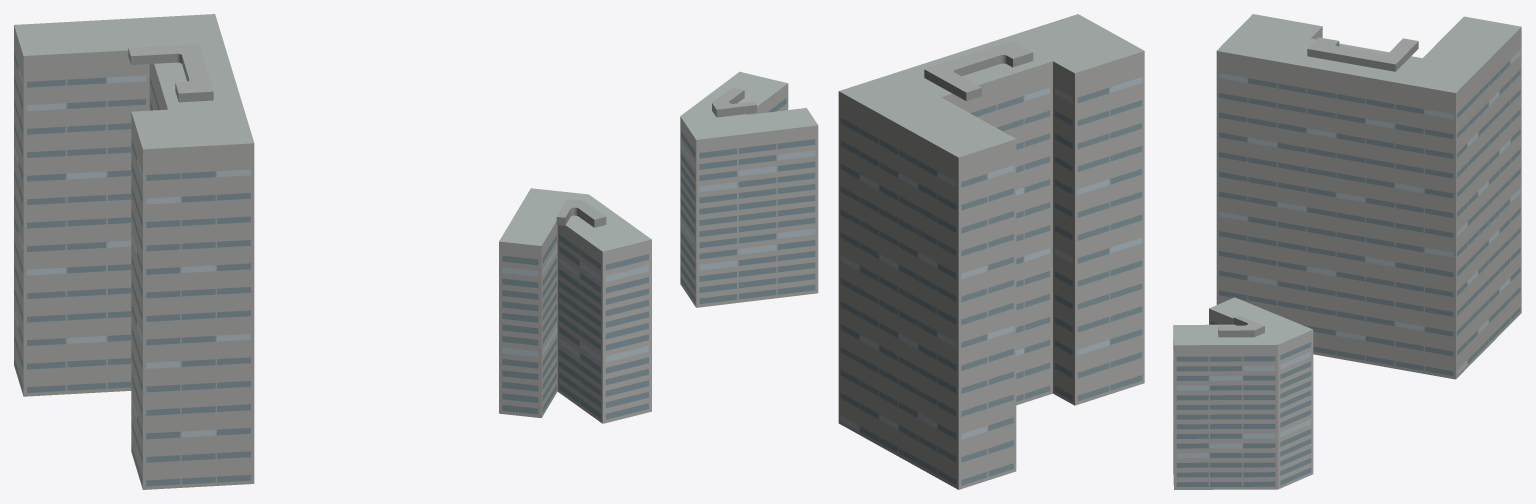
Rendered from apt-a10023798.glb.
The picture shows the model from 3 angles, left to right: view 1: azimuth 30°, elevation 25°; view 2: azimuth 150°, elevation 25°; view 3: azimuth 270°, elevation 25°; orthographic projection. The views are drawn at different scales.
Parts seen in each view (by area): view 1: apt-a10023798; view 2: apt-a10023798; view 3: apt-a10023798.
Boxes of the visible parts, x1=… form: apt-a10023798: x1=14, y1=14, x2=651, y2=489; apt-a10023798: x1=680, y1=14, x2=1144, y2=489; apt-a10023798: x1=1173, y1=14, x2=1521, y2=489.
Bounding box in the file's own units: 132 × 95 × 102.
